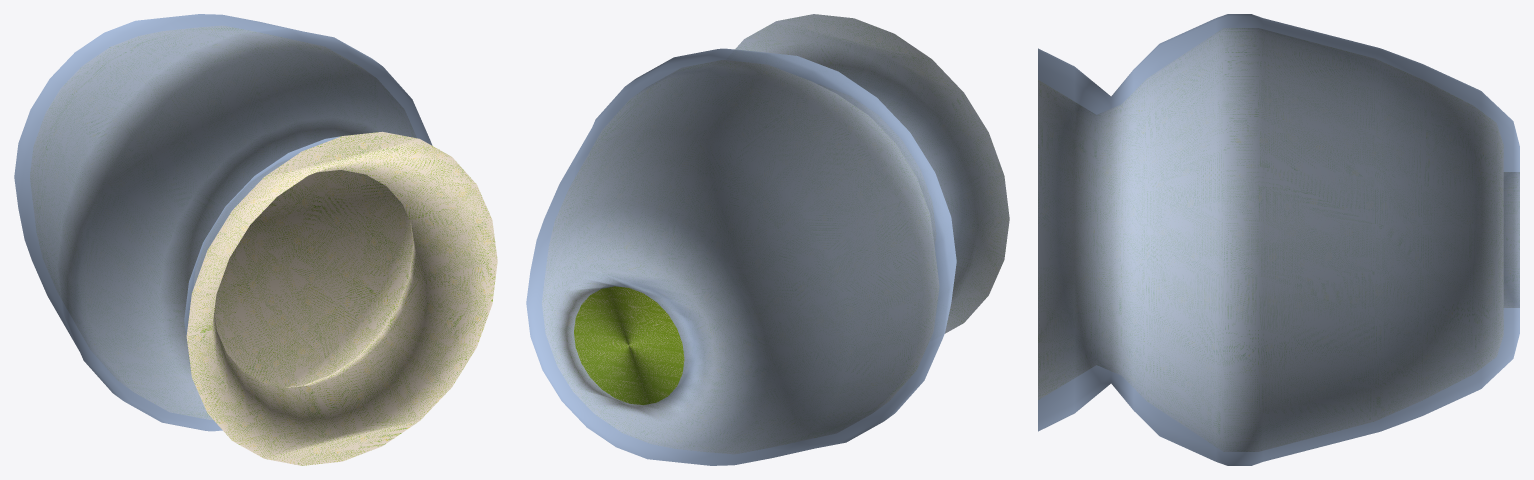
Rendered from model_scale.obj.
The picture shows the model from 3 angles, left to right: view 1: azimuth 30°, elevation 25°; view 2: azimuth 150°, elevation 25°; view 3: azimuth 270°, elevation 25°; orthographic projection. The views are drawn at different scales.
Visible parts, largest first — view 1: mesh1_mesh1-geometry; view 2: mesh1_mesh1-geometry; view 3: mesh1_mesh1-geometry.
Boxes of the visible parts, bbox=[...] form: mesh1_mesh1-geometry: bbox=[14, 14, 497, 465]; mesh1_mesh1-geometry: bbox=[526, 14, 1009, 465]; mesh1_mesh1-geometry: bbox=[1038, 14, 1519, 465].
Size of the model in its own units: 0.1444 by 0.1444 by 0.1534.
Materials: 4 (2 with a texture image).
